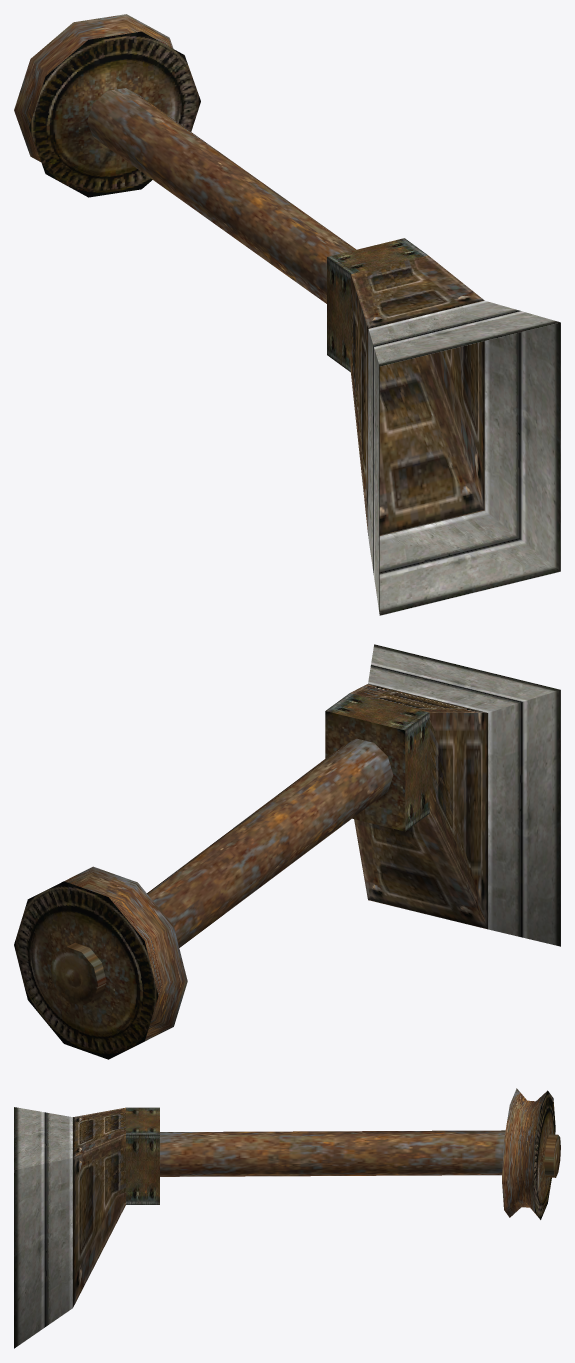
File: DWARF_PALACE_GONDOLA_SUPPORT02.fbx
3 renders of one model, top to bottom at view 1: azimuth 30°, elevation 25°; view 2: azimuth 150°, elevation 25°; view 3: azimuth 270°, elevation 25°, orthographic. The views are drawn at different scales.
Visible parts, largest first — view 1: DWARF_PALACE_GONDOLA_SUPPORT02; view 2: DWARF_PALACE_GONDOLA_SUPPORT02; view 3: DWARF_PALACE_GONDOLA_SUPPORT02.
Part boxes in pixels (x1,y1,x2,y2): DWARF_PALACE_GONDOLA_SUPPORT02: (14, 14, 560, 615); DWARF_PALACE_GONDOLA_SUPPORT02: (14, 644, 560, 1059); DWARF_PALACE_GONDOLA_SUPPORT02: (14, 1088, 560, 1348).
Size of the model in its own units: 9972 by 16021 by 36386.
Materials: 6 (6 with a texture image).
